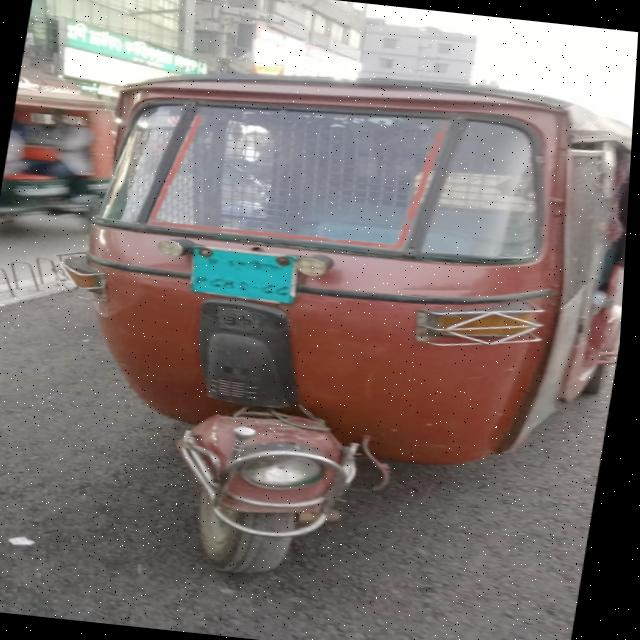cng: (27, 37, 638, 640)
